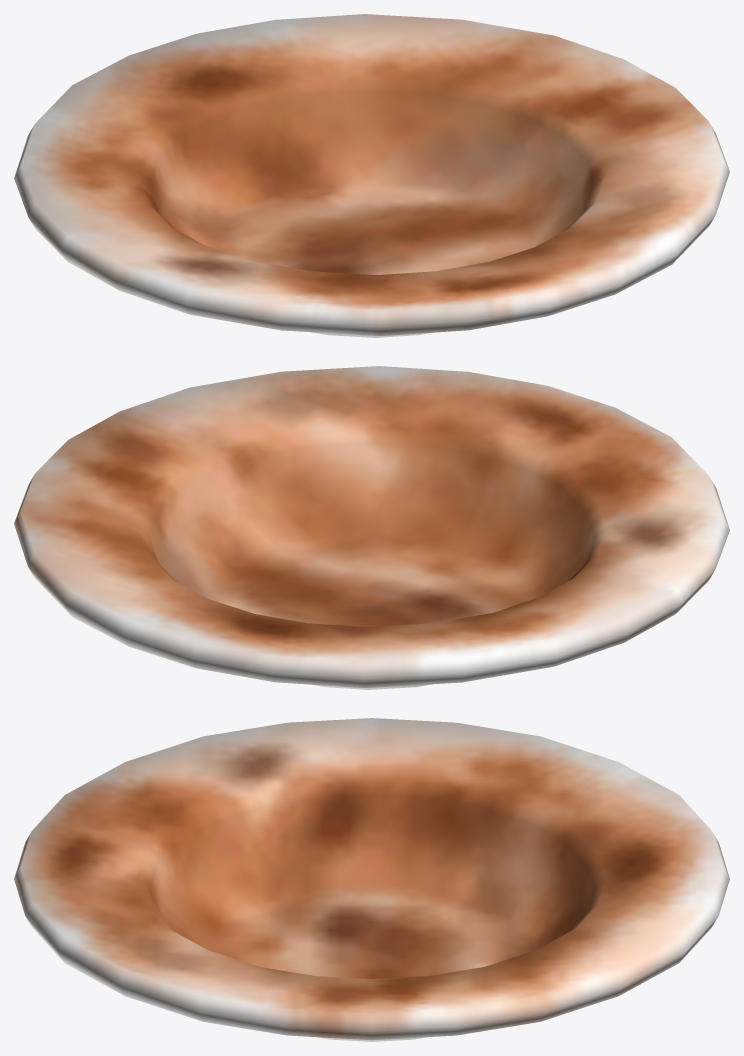
Rendered from m_sk_plate_dirty.fbx.
The picture shows the model from 3 angles, top to bottom: view 1: azimuth 30°, elevation 25°; view 2: azimuth 150°, elevation 25°; view 3: azimuth 270°, elevation 25°; orthographic projection.
Parts seen in each view (by area): view 1: m_Plate; view 2: m_Plate; view 3: m_Plate.
Part boxes in pixels (left/top/right/bottom): m_Plate: left=14, top=14, right=729, bottom=337; m_Plate: left=14, top=366, right=729, bottom=689; m_Plate: left=14, top=718, right=729, bottom=1041.
Size of the model in its own units: 0.9979 by 0.159 by 0.9979.
Materials: 1 (1 with a texture image).
